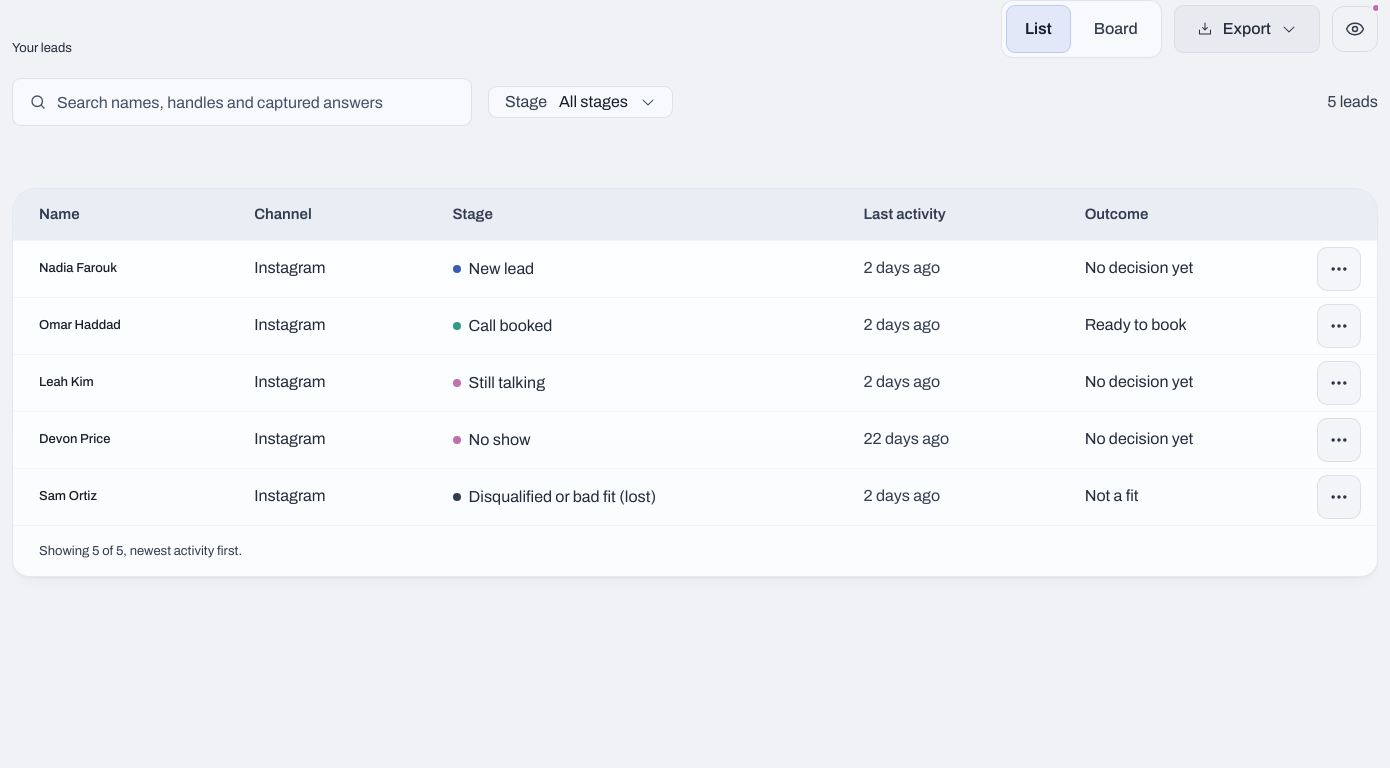
Test: the list › narrows on the search box and says how many of the whole set are left
Expected: the text "5 leads" is shown, x1=1327 y1=90 x2=1378 y2=114
Type "Nadia" into the search field named "Search leads" at (256, 102), box x1=57 y1=79 x2=455 y2=125
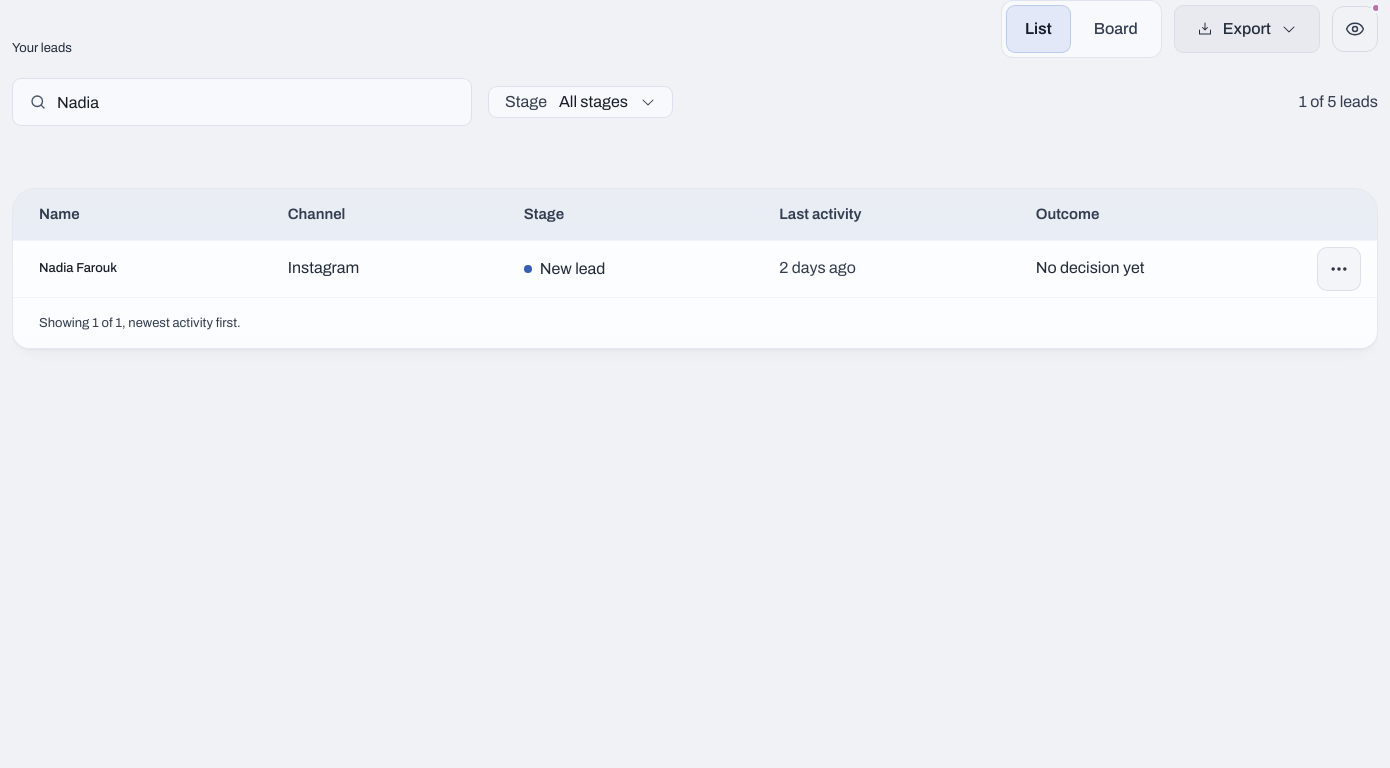
Expected: the text "1 of 5 leads" is shown, x1=1299 y1=90 x2=1378 y2=114
Expected: the link "Omar Haddad" is gone
Replace the text in the search field named "Search leads" with "nobody at all" at (256, 102), box x1=57 y1=79 x2=455 y2=125
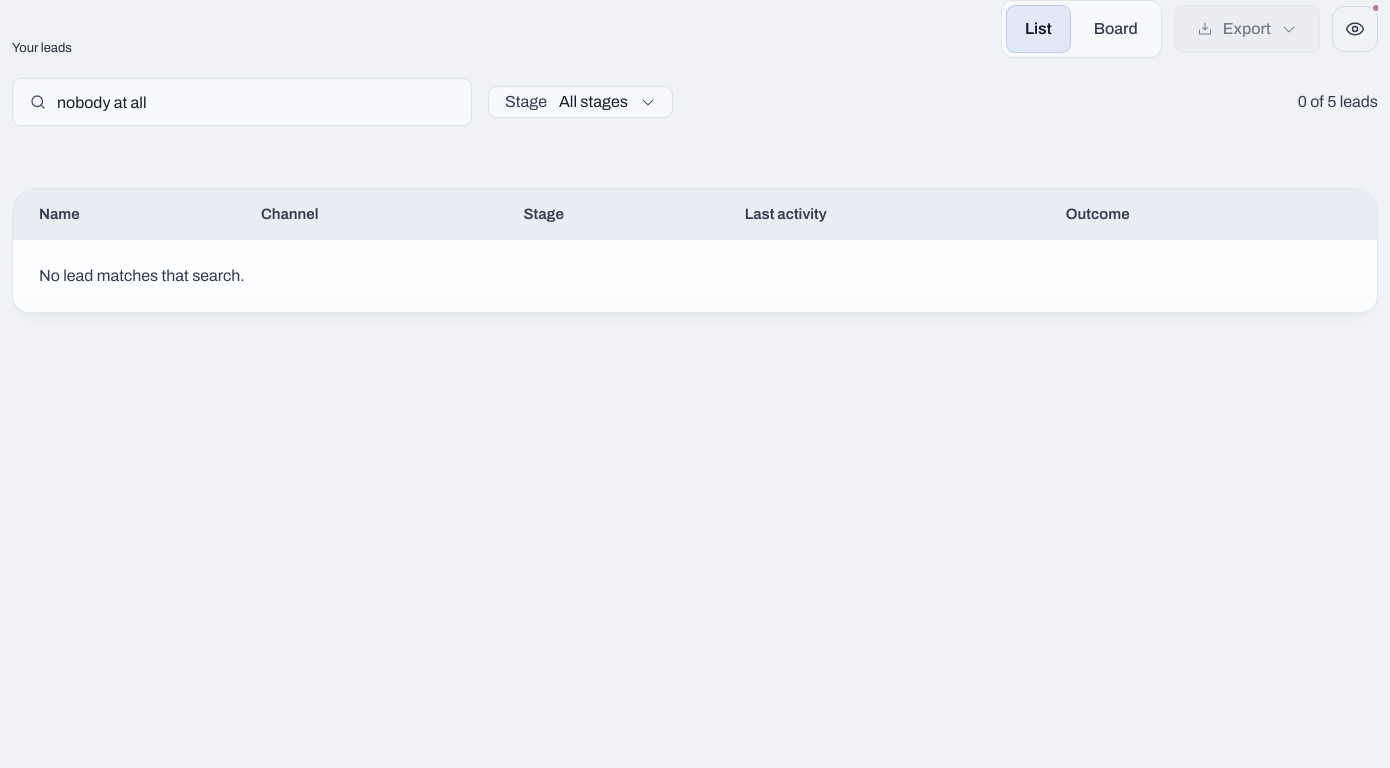
Expected: the text "No lead matches that search." is shown, x1=13 y1=240 x2=1377 y2=312
